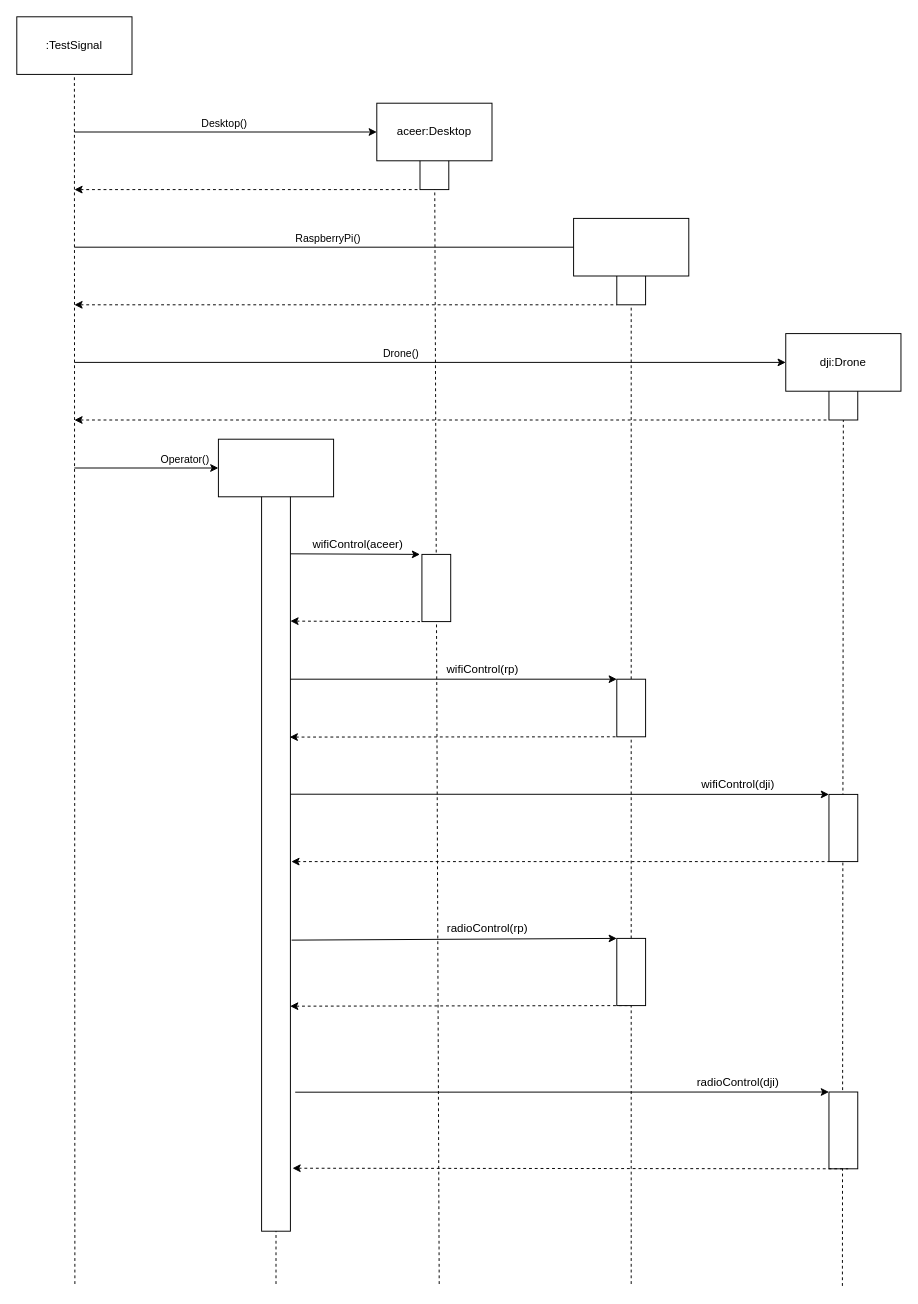
Some shapes in this 918 by 1304 pixel diagram are drawn without their labels. The centre of each missing label's shape, as x and y in pixels:
"op:Operator" goes at point 275,467.
"rp:RaspberryPi" goes at point 631,246.
